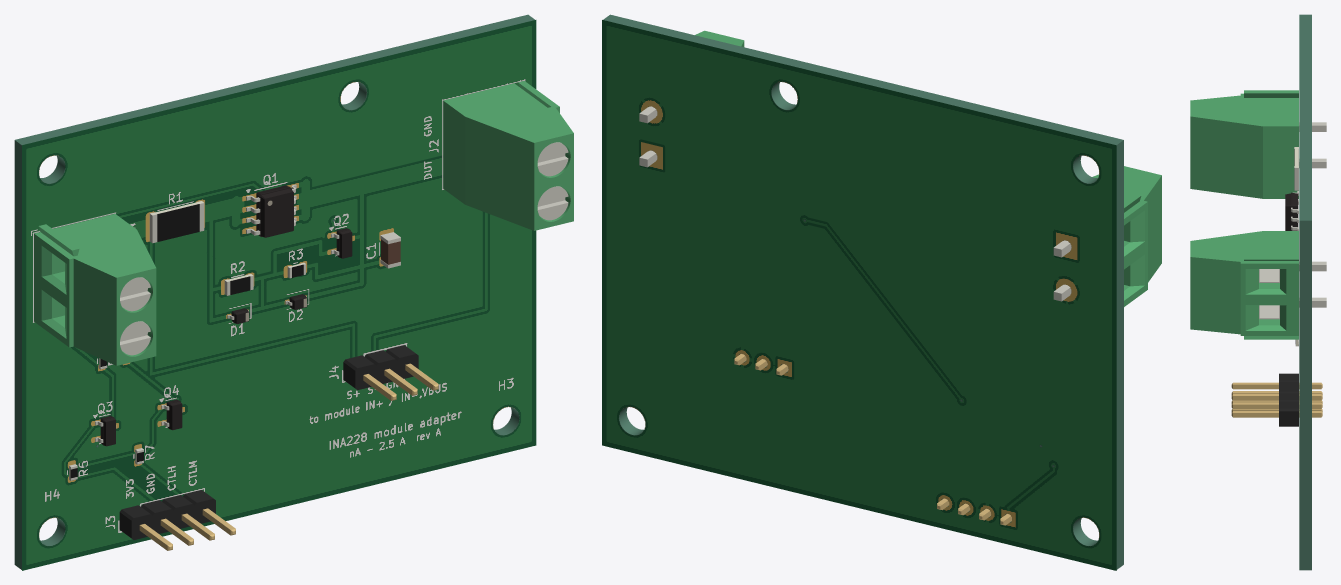
File: current_adapter.glb
3 renders of one model, left to right at view 1: azimuth 30°, elevation 25°; view 2: azimuth 150°, elevation 25°; view 3: azimuth 270°, elevation 25°, orthographic. The views are drawn at different scales.
Parts seen in each view (by area): view 1: pcb_top_layers, =>[0:1:1:11]_1_2ed894, =>[0:1:1:11]_1_e751fd, =>[0:1:1:11]_509abd, =>[0:1:1:24]_eaf016, =>[0:1:1:11]_58b94e, =>[0:1:1:24]_f13e75, =>[0:1:1:11]_1_2a80bf, =>[0:1:1:11]_ddb008, =>[0:1:1:11]_1_cb257a, =>[0:1:1:11]_3922ac, =>[0:1:1:13]_48bdd4 (+3 smaller); view 2: pcb_bottom_layers, =>[0:1:1:24]_eaf016, =>[0:1:1:24]_f13e75, =>[0:1:1:11]_58b94e, =>[0:1:1:11]_509abd, =>[0:1:1:11]_3922ac; view 3: =>[0:1:1:11]_3627bf, =>[0:1:1:24]_46c4f6, =>[0:1:1:11]_1_7e0be2, =>[0:1:1:11]_1_e751fd, =>[0:1:1:11]_509abd, =>[0:1:1:24]_eaf016, =>[0:1:1:11]_0efa69, =>[0:1:1:11]_1_b24864, =>[0:1:1:11]_1_a26763, =>[0:1:1:11]_1_eb14c8, =>[0:1:1:3]_fd0e2c, =>[0:1:1:11]_1_7f0f10 (+9 smaller).
Part boxes in pixels (<box>): pcb_top_layers: <box>22,20,536,570</box>; =>[0:1:1:11]_1_2ed894: <box>465,117,534,230</box>; =>[0:1:1:11]_1_e751fd: <box>444,81,573,142</box>; =>[0:1:1:11]_509abd: <box>34,214,155,277</box>; =>[0:1:1:24]_eaf016: <box>15,14,534,144</box>; =>[0:1:1:11]_58b94e: <box>73,259,116,365</box>; =>[0:1:1:24]_f13e75: <box>14,140,21,569</box>; =>[0:1:1:11]_1_2a80bf: <box>443,101,465,204</box>; =>[0:1:1:11]_ddb008: <box>116,268,156,365</box>; =>[0:1:1:11]_1_cb257a: <box>534,133,573,230</box>; =>[0:1:1:11]_3922ac: <box>34,234,69,346</box>; =>[0:1:1:13]_48bdd4: <box>131,498,215,539</box>; pcb_bottom_layers: <box>602,20,1116,570</box>; =>[0:1:1:24]_eaf016: <box>603,14,1123,145</box>; =>[0:1:1:24]_f13e75: <box>1116,140,1123,569</box>; =>[0:1:1:11]_58b94e: <box>1144,175,1161,282</box>; =>[0:1:1:11]_509abd: <box>1092,166,1161,218</box>; =>[0:1:1:11]_3922ac: <box>1124,202,1147,306</box>; =>[0:1:1:11]_3627bf: <box>1190,116,1262,198</box>; =>[0:1:1:24]_46c4f6: <box>1299,220,1311,570</box>; =>[0:1:1:11]_1_7e0be2: <box>1190,257,1240,334</box>; =>[0:1:1:11]_1_e751fd: <box>1190,231,1298,263</box>; =>[0:1:1:11]_509abd: <box>1190,93,1298,126</box>; =>[0:1:1:24]_eaf016: <box>1299,14,1311,220</box>; =>[0:1:1:11]_0efa69: <box>1263,126,1298,198</box>; =>[0:1:1:11]_1_b24864: <box>1240,263,1298,335</box>; =>[0:1:1:11]_1_a26763: <box>1245,305,1258,330</box>; =>[0:1:1:11]_1_eb14c8: <box>1245,269,1258,294</box>; =>[0:1:1:3]_fd0e2c: <box>1279,411,1298,425</box>; =>[0:1:1:11]_1_7f0f10: <box>1259,305,1279,318</box>.
Bounding box in the file's own units: 0.0621 × 0.0491 × 0.0173.
13 materials, 2 textured.
